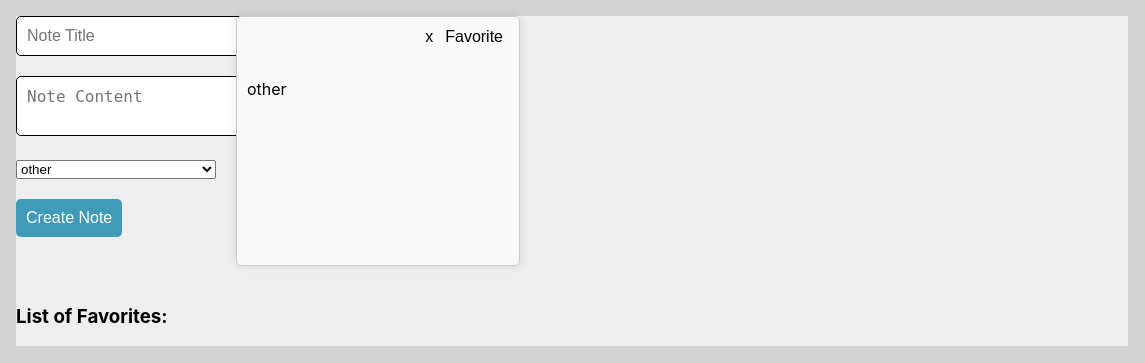
Test case: Create StickyNote › creates new notes
In the field with placeholder "Note Title": x=130, y=36 [16,16,245,56], type "New Note"
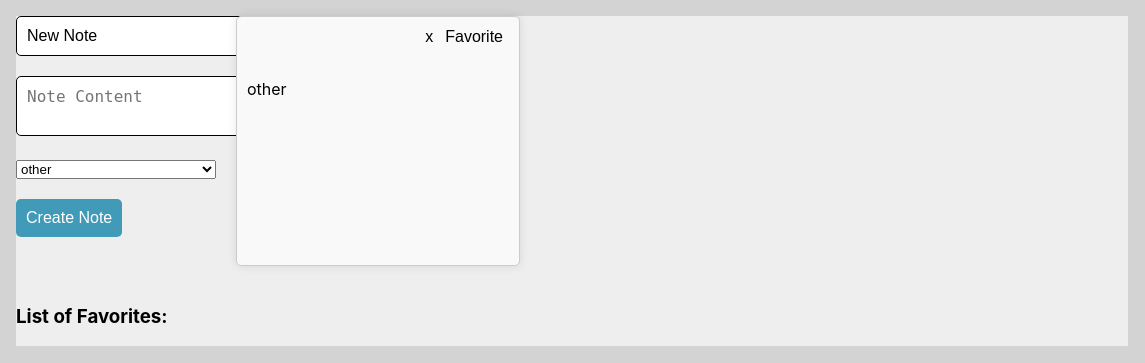
In the text box with placeholder "Note Content": x=134, y=106 [16,76,253,136], type "Note content"
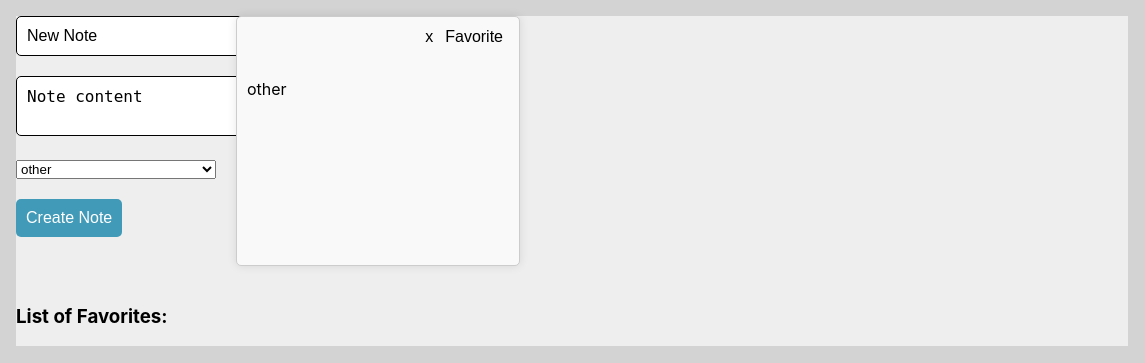
Click the button "Create Note": x=69, y=218 [16,199,122,237]
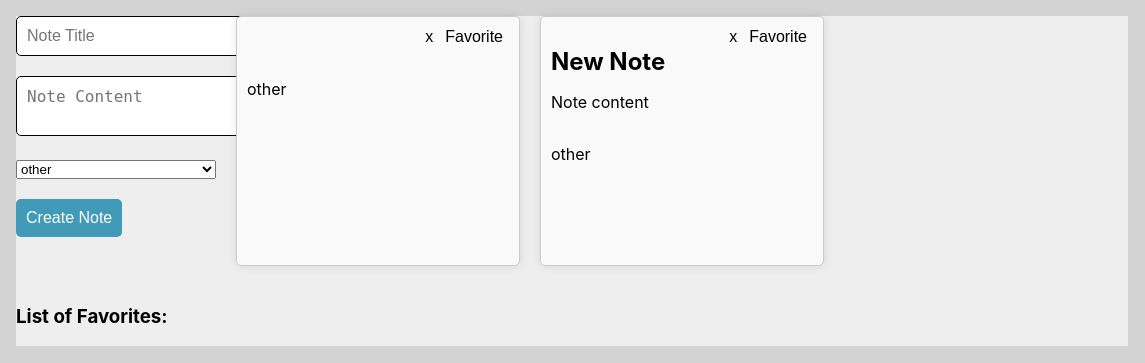
In the field with placeholder "Note Title": x=130, y=36 [16,16,245,56], type "Second New Note"
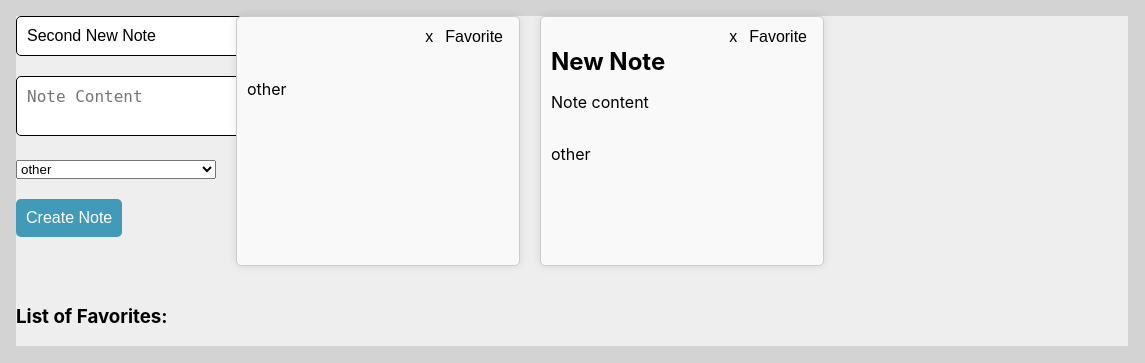
In the text box with placeholder "Note Content": x=134, y=106 [16,76,253,136], type "Second Note content"
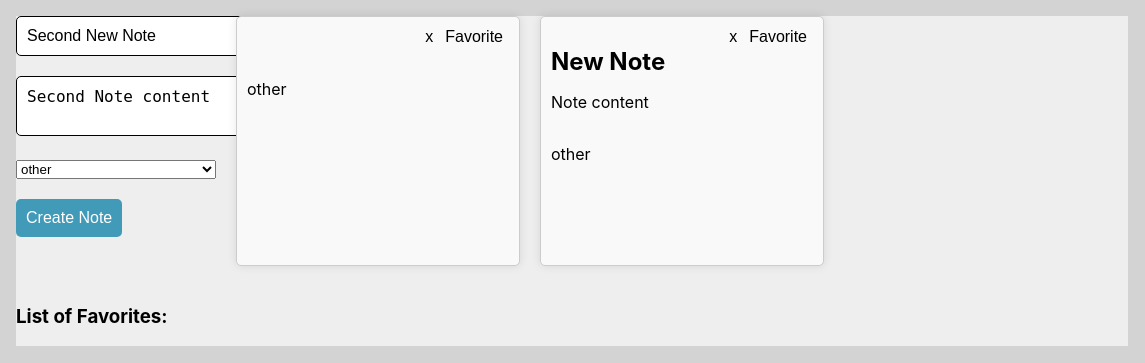
Click the button "Create Note": x=69, y=218 [16,199,122,237]
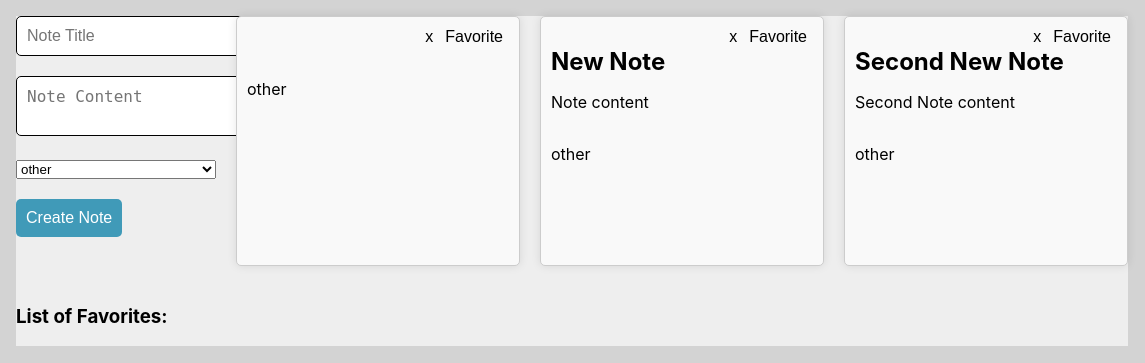
Expected: the heading "New Note" is shown, [551,47,665,76]
Expected: the text "Note content" is shown, [551,92,649,112]
Expected: the text "Second Note content" is shown, [855,92,1015,112]
